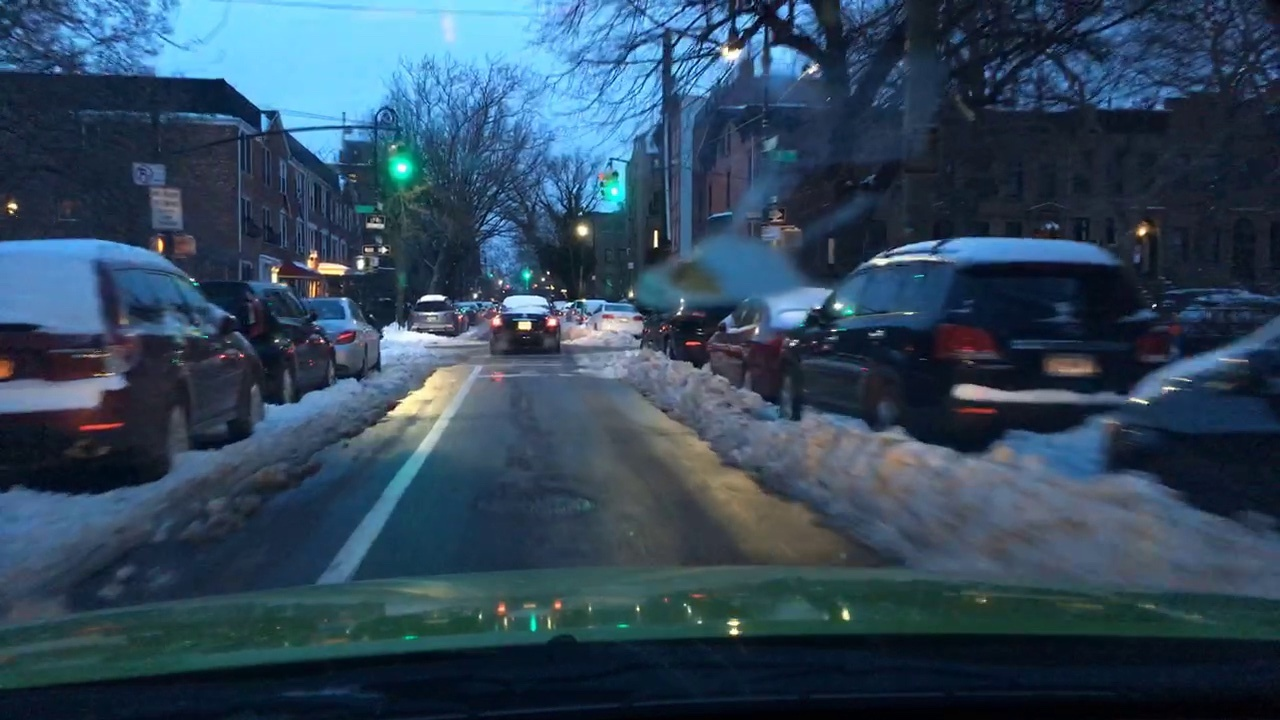car: (782, 248, 1164, 450), (3, 231, 263, 480), (199, 274, 337, 404), (697, 289, 833, 402), (298, 290, 387, 378), (636, 291, 738, 367), (487, 294, 562, 358)
traffic light: (384, 134, 415, 188), (602, 163, 624, 205)
